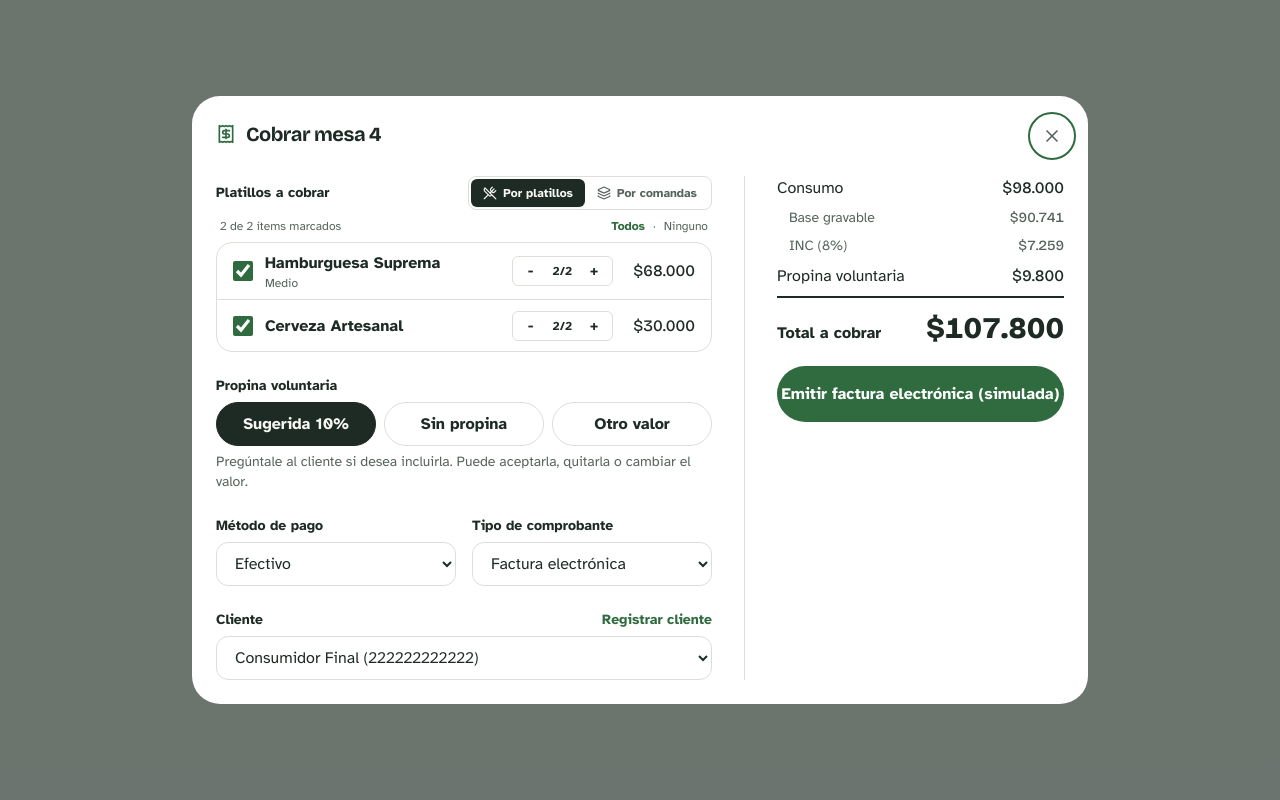
Test: Split Billing (Separar cuenta por platillos) › permite deseleccionar todo con "Ninguno" y re-seleccionar con "Todos"
# Click en "Ninguno"
Click the button "Ninguno" at (686, 226), box [664,218,708,234]
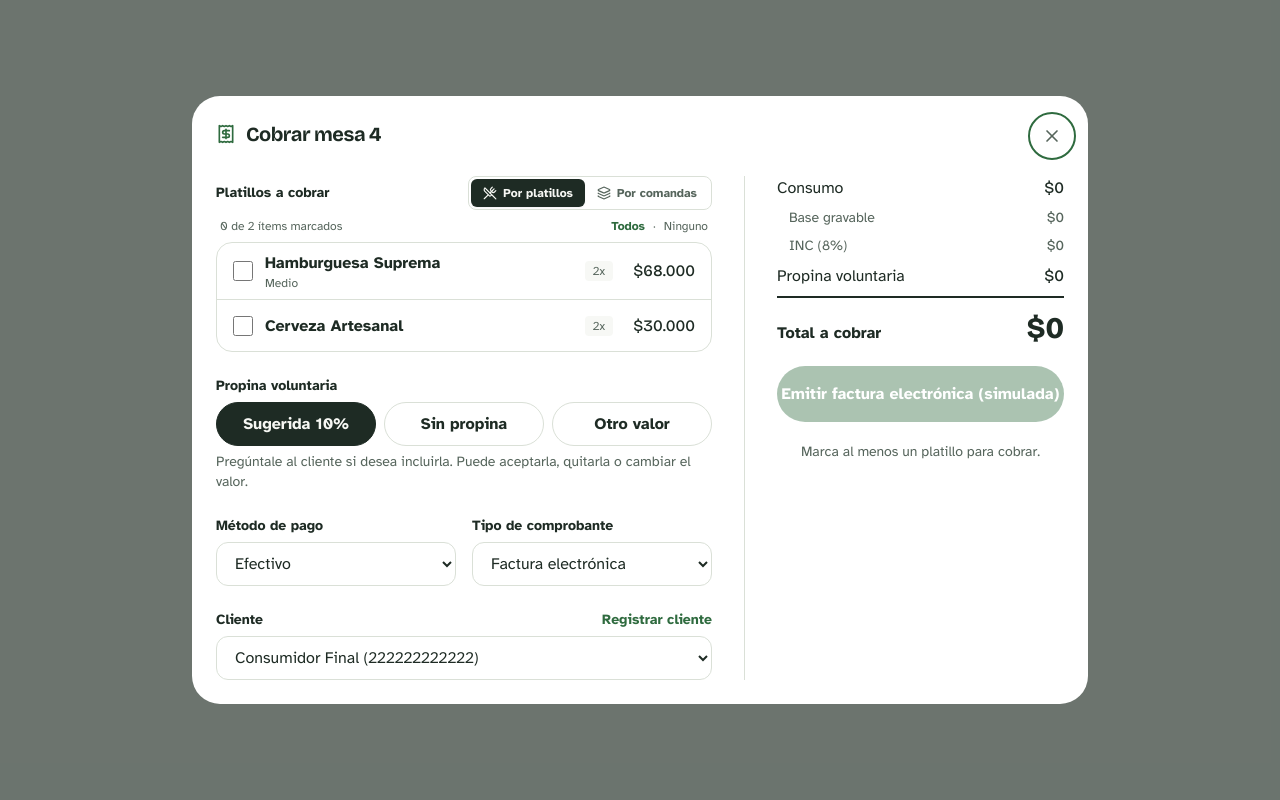
expect the element with test id "billing-total" shows "$0": met, box [1026,310,1064,346]
expect the text "Marca al menos un platillo para cobrar." is shown: met, box [801,443,1040,460]
Click the button "Todos" at (628, 226), box [611,218,645,234]
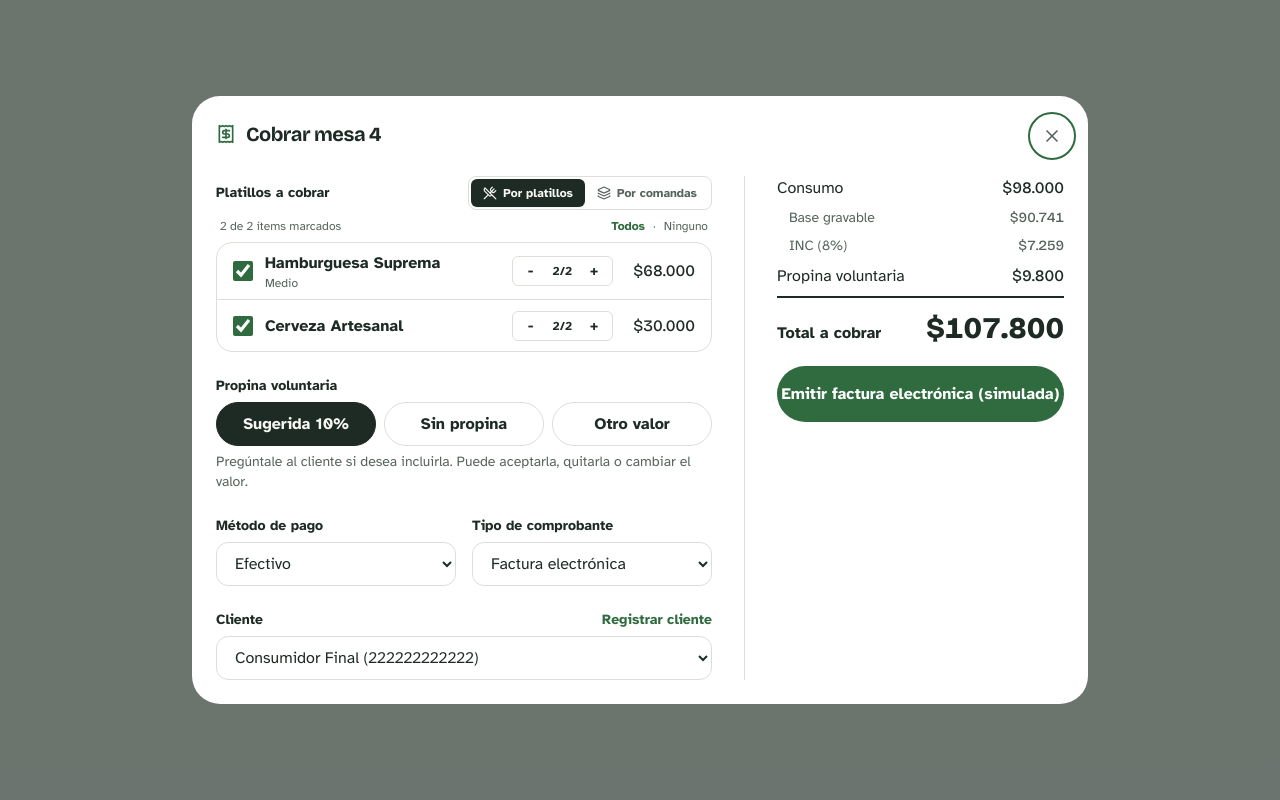
expect the element with test id "billing-total" shows "$107.800": met, box [926,310,1064,346]
